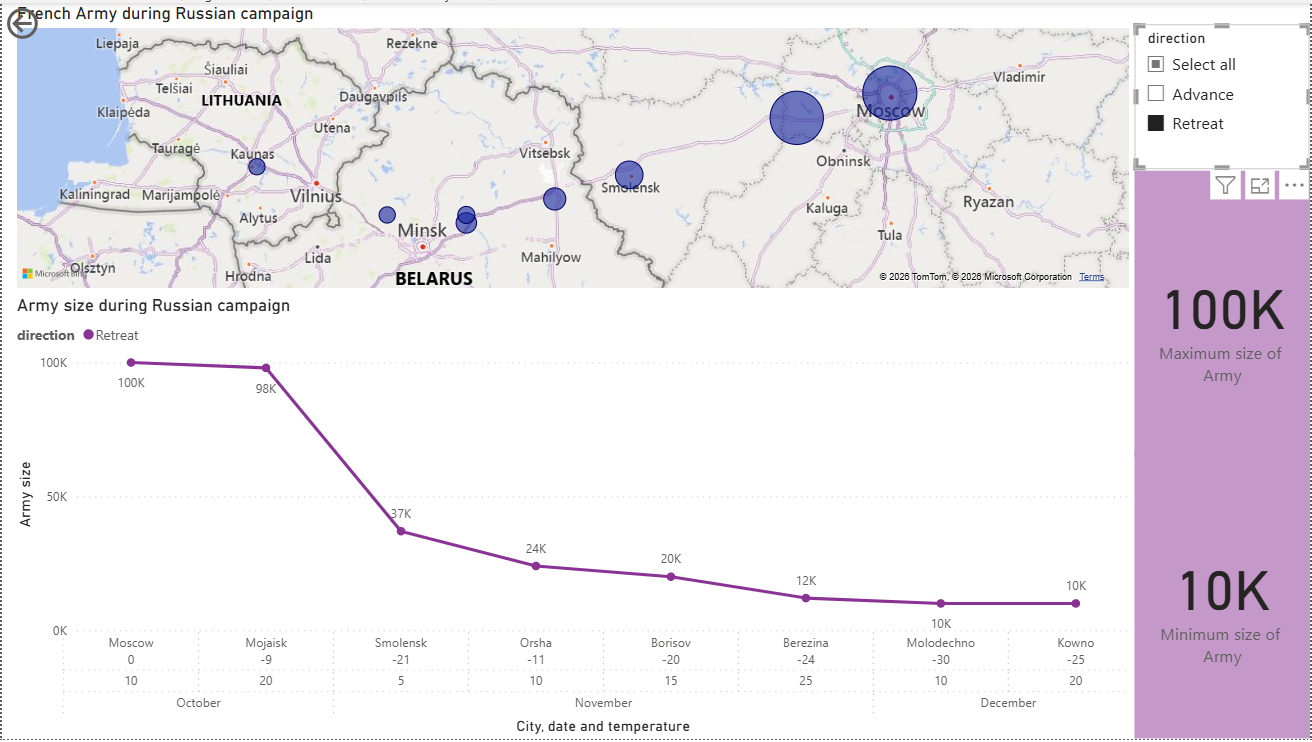

Layout of this report page (visuals, bound fields, positions):
{"tool":"powerbi","page":{"name":"Page 1","canvas":[1280,720],"ordinal":0},"visuals":[{"type":"map","title":"French Army during Russian campaign ","fields":{"Y":["french marsh to russia.lat"],"X":["french marsh to russia.lon"],"Size":["Sum(french marsh to russia.army_size)"]},"box":[9.4,0,1098.3,284.4],"z":0},{"type":"slicer","fields":{"Values":["french marsh to russia.direction"]},"box":[1107.8,20.2,172.5,142.9],"z":2},{"type":"actionButton","box":[0,0,100,40],"z":5},{"type":"lineChart","title":"Army size during Russian campaign  ","fields":{"Y":["Sum(french marsh to russia.army_size)"],"Series":["french marsh to russia.direction"],"Category":["french marsh to russia.Data.Variation.Date Hierarchy.Month","french marsh to russia.Data.Variation.Date Hierarchy.Day","french marsh to russia.temperature_c","french marsh to russia.city"]},"box":[9.4,284.4,1098.3,435.3],"z":6},{"type":"card","fields":{"Values":["Max(french marsh to russia.army_size)"]},"box":[1107.8,163.1,172.5,281.7],"z":7},{"type":"card","fields":{"Values":["Min(french marsh to russia.army_size)"]},"box":[1107.8,438,172.5,281.7],"z":8}]}

Visuals, with their boxes in screenshot pixels (x1, y1, x2, y2), scaled from the page's 1280x720 canvas onto the 1312x742 screenshot:
"French Army during Russian campaign " map: (10,0,1135,293)
slicer - french marsh to russia.direction: (1135,21,1311,168)
actionButton: (0,0,102,41)
"Army size during Russian campaign  " lineChart: (10,293,1135,741)
card - Max(french marsh to russia.army_size): (1135,168,1311,458)
card - Min(french marsh to russia.army_size): (1135,451,1311,741)
